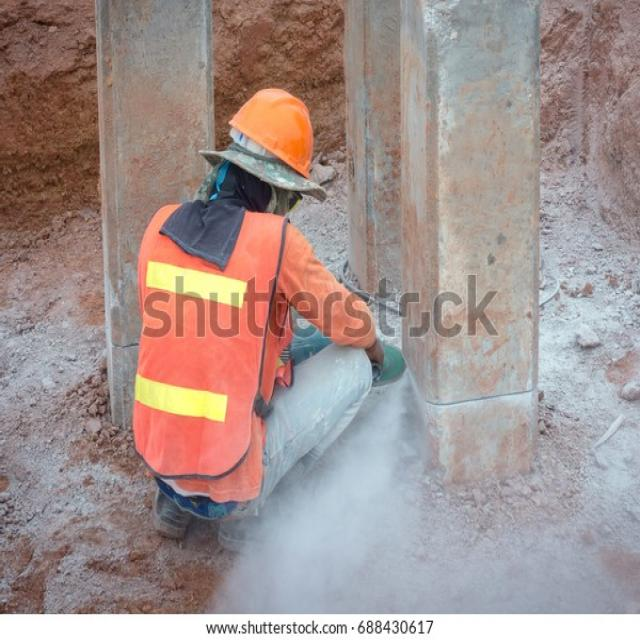Reflective-Jacket: (129, 206, 347, 484)
Safety-Helmet: (216, 81, 323, 195)
